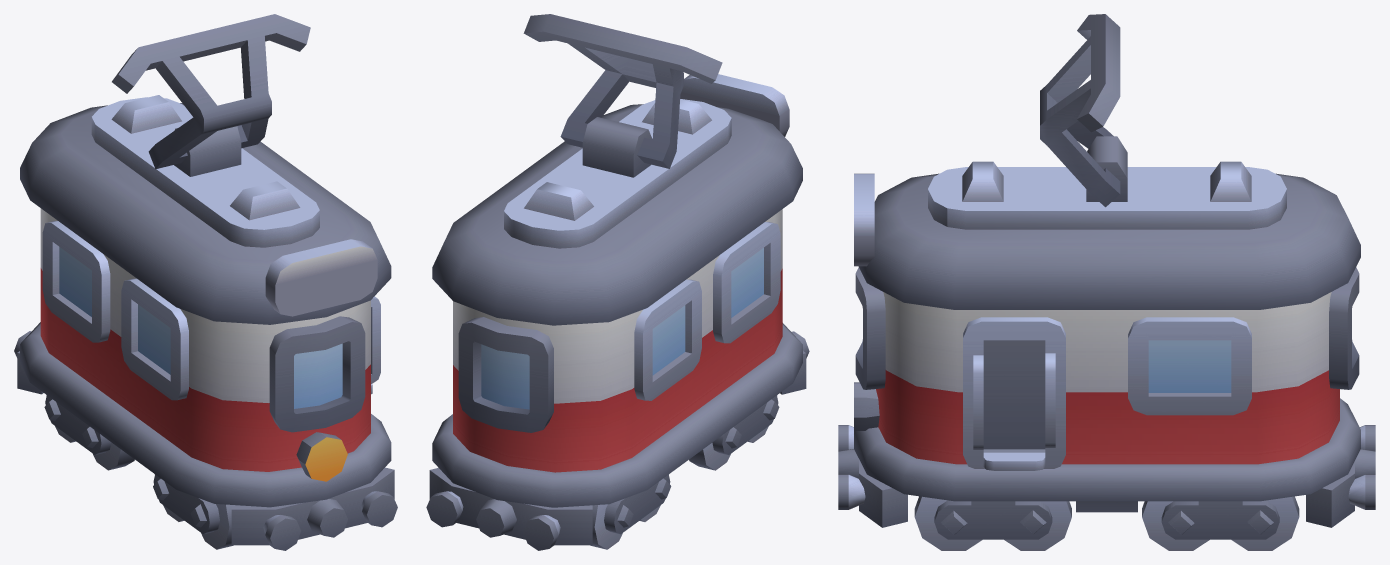
The model's file is kenney-train-train-tram-round.glb.
3 renders of one model, left to right at view 1: azimuth 30°, elevation 25°; view 2: azimuth 150°, elevation 25°; view 3: azimuth 270°, elevation 25°, orthographic. The views are drawn at different scales.
Parts seen in each view (by area): view 1: train-tram-round, collector, Group, wheels-front, wheels-back; view 2: train-tram-round, collector, Group, wheels-back, wheels-front; view 3: train-tram-round, Group, collector, wheels-front, wheels-back.
Part boxes in pixels (x1=…): train-tram-round: x1=14, y1=95, x2=397, y2=550; collector: x1=112, y1=14, x2=310, y2=169; Group: x1=91, y1=97, x2=319, y2=247; wheels-front: x1=153, y1=474, x2=233, y2=549; wheels-back: x1=44, y1=395, x2=134, y2=470; train-tram-round: x1=426, y1=74, x2=809, y2=550; collector: x1=523, y1=14, x2=722, y2=168; Group: x1=504, y1=99, x2=731, y2=248; wheels-back: x1=590, y1=474, x2=671, y2=549; wheels-front: x1=689, y1=395, x2=779, y2=470; train-tram-round: x1=838, y1=136, x2=1375, y2=527; Group: x1=928, y1=167, x2=1286, y2=229; collector: x1=1040, y1=14, x2=1120, y2=207; wheels-front: x1=914, y1=496, x2=1071, y2=550; wheels-back: x1=1142, y1=496, x2=1299, y2=550.
Size of the model in its own units: 1.25 by 2.49 by 2.6.
1 material, 1 textured.
